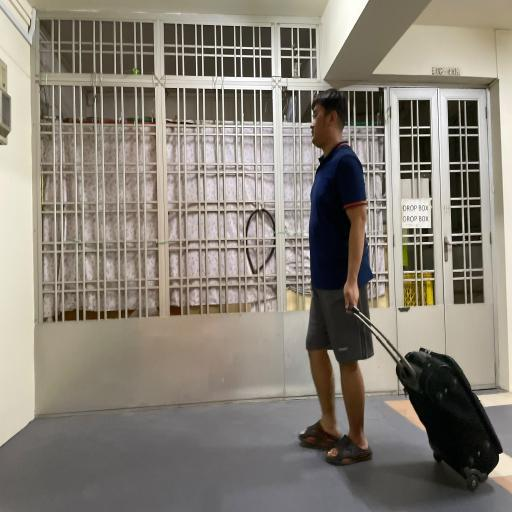person_left: (298, 83, 498, 503)
